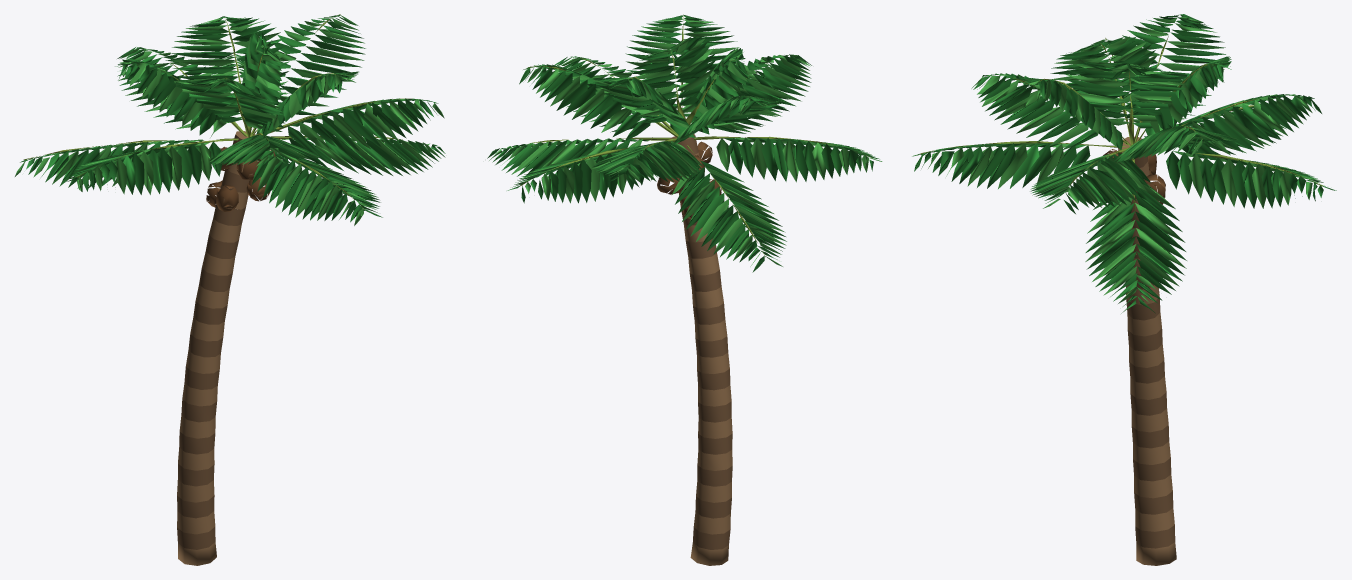
The picture shows the model from 3 angles, left to right: view 1: azimuth 30°, elevation 25°; view 2: azimuth 150°, elevation 25°; view 3: azimuth 270°, elevation 25°; orthographic projection. The views are drawn at different scales.
Parts seen in each view (by area): view 1: body; view 2: body; view 3: body.
Boxes of the visible parts, left/top/right/bottom form: body: left=15, top=14, right=445, bottom=565; body: left=487, top=14, right=882, bottom=565; body: left=912, top=14, right=1336, bottom=565.
Size of the model in its own units: 4.92 by 6.13 by 4.52.
1 material, 1 textured.
